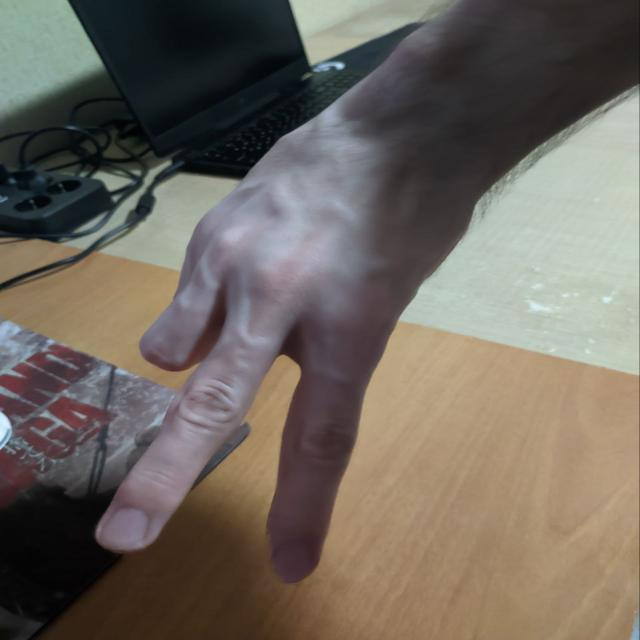l: (104, 120, 439, 583)
